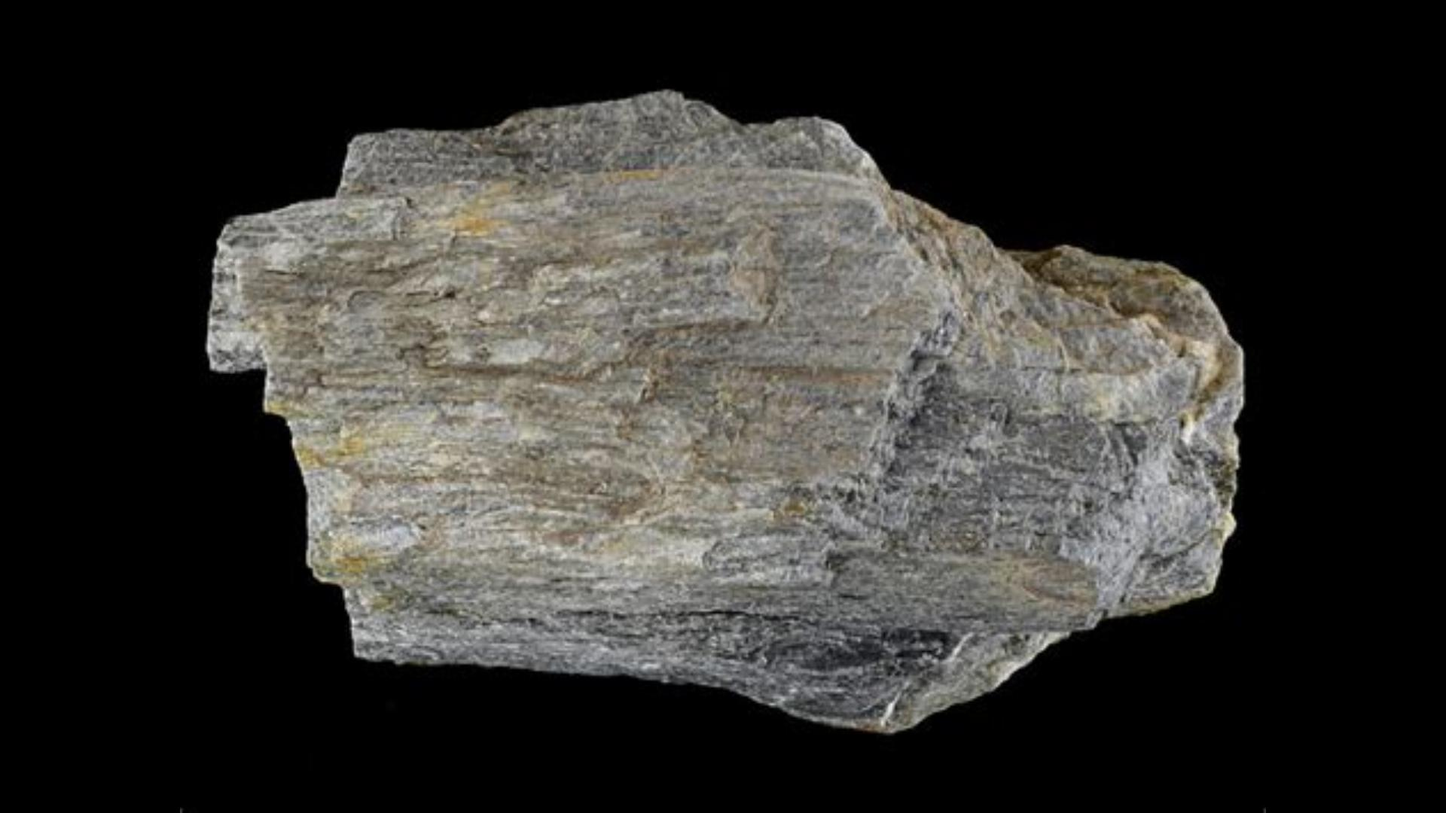rock: (212, 94, 1239, 728)
